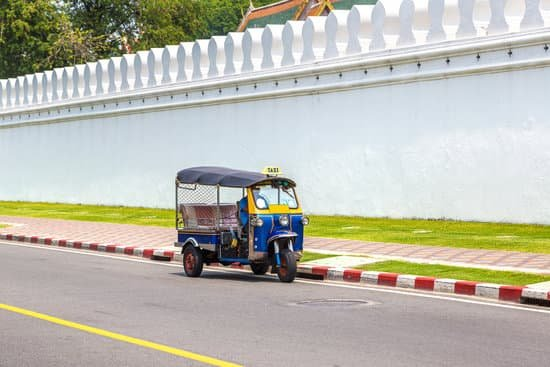threewheel: (173, 165, 309, 284)
